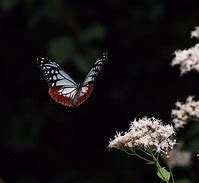insect: (37, 52, 108, 109)
